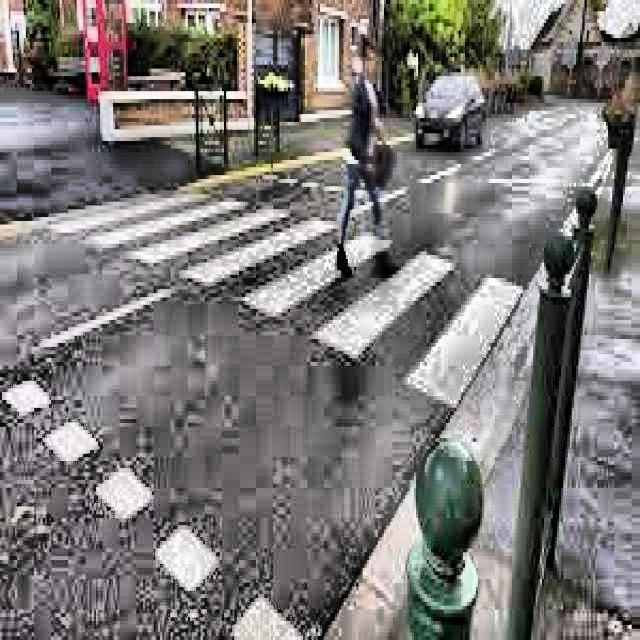carro: (402, 74, 488, 148)
faixa de pedestre: (42, 176, 530, 405)
